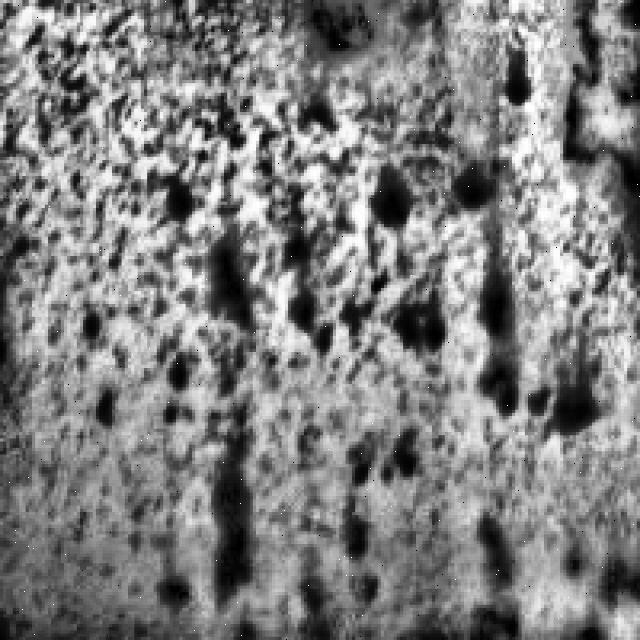Rolled_in_Scale: (16, 19, 611, 426), (38, 288, 528, 624)
Scratches: (554, 0, 640, 192), (297, 0, 393, 61)
